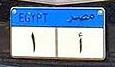1: (29, 31, 38, 53)
alif: (76, 32, 84, 53)
